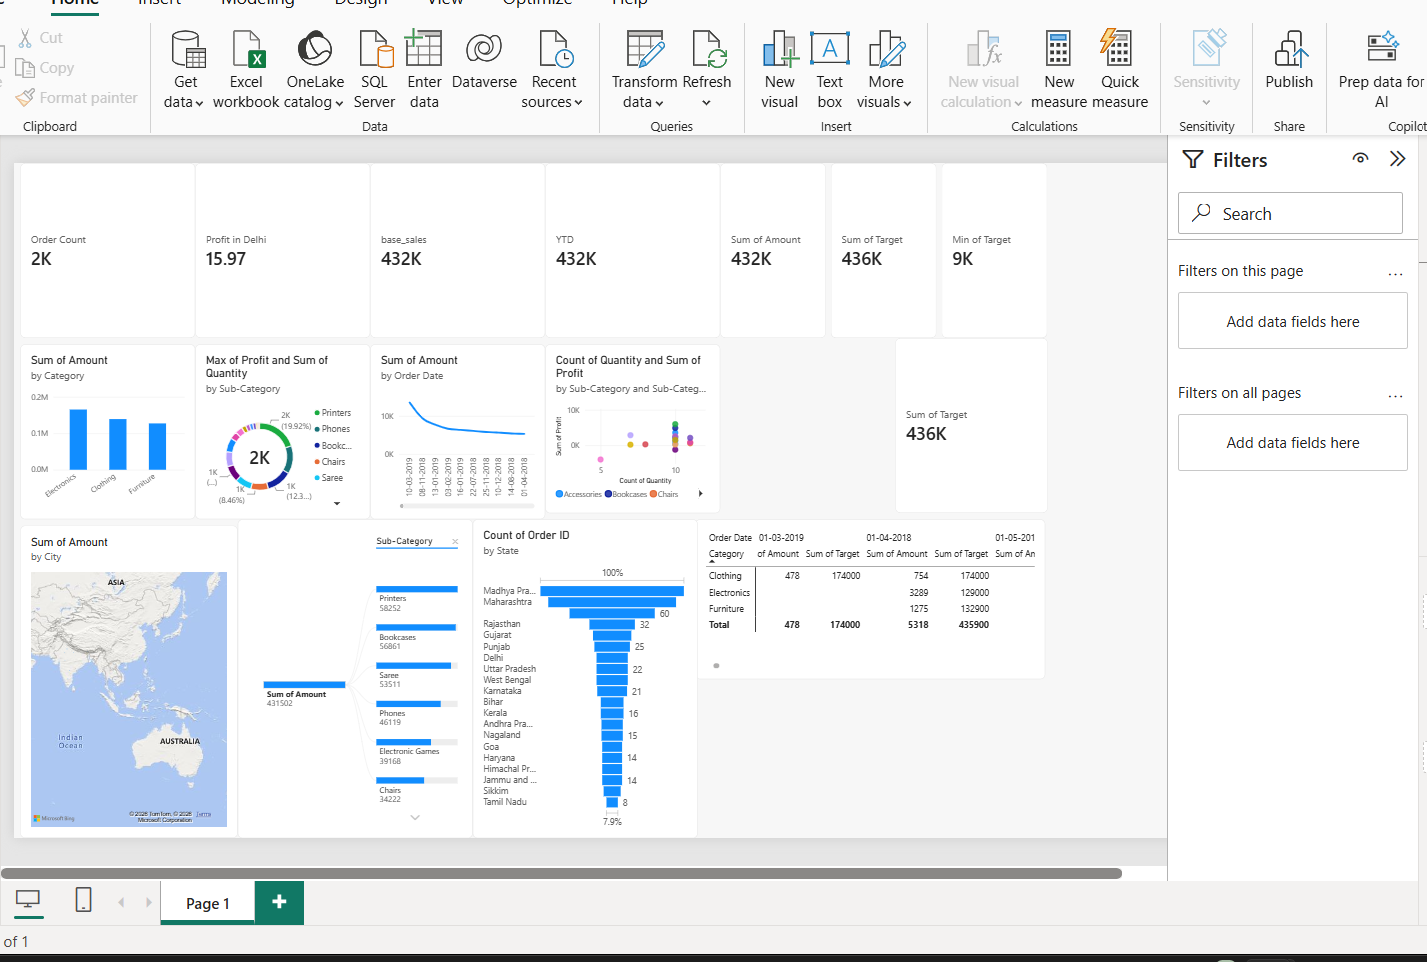

Layout of this report page (visuals, bound fields, positions):
{"tool":"powerbi","page":{"name":"Page 1","canvas":[1920,1080],"ordinal":0},"visuals":[{"type":"cardVisual","fields":{"Data":["Order Details (2).Order Count"]},"box":[10,0,280,280],"z":0},{"type":"cardVisual","fields":{"Data":["List of Orders (2).Profit in Delhi"]},"box":[290.2,0,280,280],"z":1},{"type":"cardVisual","fields":{"Data":["Collection.base_sales"]},"box":[570.2,0,280,280],"z":2},{"type":"cardVisual","fields":{"Data":["Collection.YTD"]},"box":[850.1,0,280,280],"z":3},{"type":"clusteredColumnChart","fields":{"Category":["Order Details .Category"],"Y":["Sum(Order Details .Amount)"]},"box":[10,290,280,280],"z":4},{"type":"donutChart","fields":{"Category":["Order Details .Sub-Category"],"Y":["Max(Order Details .Profit)"]},"box":[290,290,280,280],"z":5},{"type":"lineChart","fields":{"Category":["List of orders .Order Date"],"Y":["Sum(Order Details .Amount)"]},"box":[570,290,280,280],"z":6},{"type":"scatterChart","fields":{"Category":["Order Details .Sub-Category"],"Series":["Order Details .Sub-Category"],"X":["Count(Order Details .Quantity)"],"Y":["Sum(Order Details .Profit)"]},"box":[850,290,280,270],"z":7},{"type":"map","fields":{"Category":["List of orders .City"],"Size":["Sum(Order Details .Amount)"]},"box":[10,580,348,500],"z":8},{"type":"cardVisual","fields":{"Data":["Sum(Order Details .Amount)","Sum(Sales target.Target)","Min(Sales target.Target)"]},"box":[1130,0,524,280],"z":9},{"type":"cardVisual","fields":{"Data":["Sum(Sales target.Target)"]},"box":[1410,280,244,280],"z":10},{"type":"pivotTable","fields":{"Columns":["List of orders .Order Date"],"Rows":["Order Details .Category"],"Values":["Sum(Order Details .Amount)","Sum(Sales target.Target)"]},"box":[1090,570,560,256],"z":11},{"type":"treemap","fields":{"Group":["Order Details .Sub-Category"],"Values":["Sum(Order Details .Amount)"]},"box":[358,570,376,510],"z":12},{"type":"funnel","fields":{"Category":["List of orders .State"],"Y":["CountNonNull(List of orders .Order ID)"]},"box":[734,570,360,510],"z":13}]}

Visuals, with their boxes on the page's 1920x1080 design canvas (x1, y1, x2, y2). These are canvas units, not pixel positions in the 1427x962 screenshot, which may show the page scaled, cropped or inside an application window:
cardVisual - Order Details (2).Order Count: 10:0:290:280
cardVisual - List of Orders (2).Profit in Delhi: 290:0:570:280
cardVisual - Collection.base_sales: 570:0:850:280
cardVisual - Collection.YTD: 850:0:1130:280
clusteredColumnChart - Order Details .Category x Sum(Order Details .Amount): 10:290:290:570
donutChart - Order Details .Sub-Category x Max(Order Details .Profit): 290:290:570:570
lineChart - List of orders .Order Date x Sum(Order Details .Amount): 570:290:850:570
scatterChart - Order Details .Sub-Category x Order Details .Sub-Category: 850:290:1130:560
map - List of orders .City x Sum(Order Details .Amount): 10:580:358:1080
cardVisual - Sum(Order Details .Amount) x Sum(Sales target.Target): 1130:0:1654:280
cardVisual - Sum(Sales target.Target): 1410:280:1654:560
pivotTable - List of orders .Order Date x Order Details .Category: 1090:570:1650:826
treemap - Order Details .Sub-Category x Sum(Order Details .Amount): 358:570:734:1080
funnel - List of orders .State x CountNonNull(List of orders .Order ID): 734:570:1094:1080
